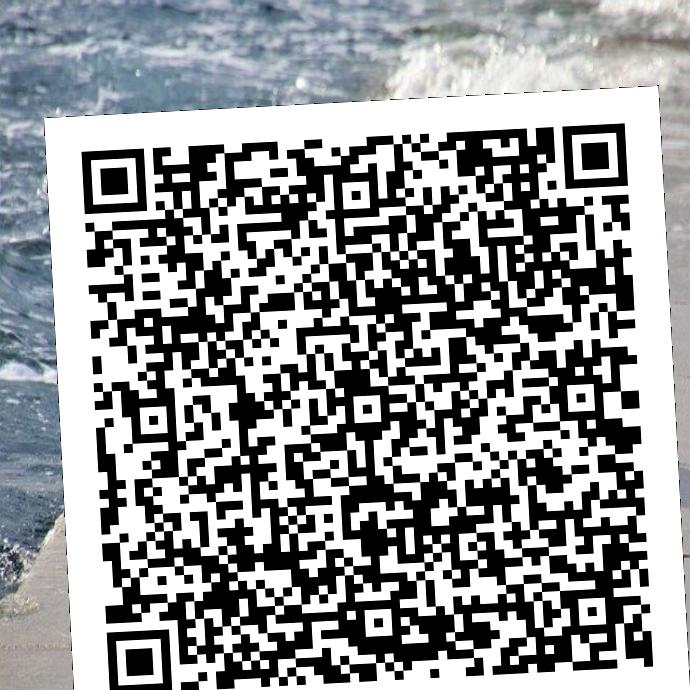qr_code: (44, 64, 689, 690)
